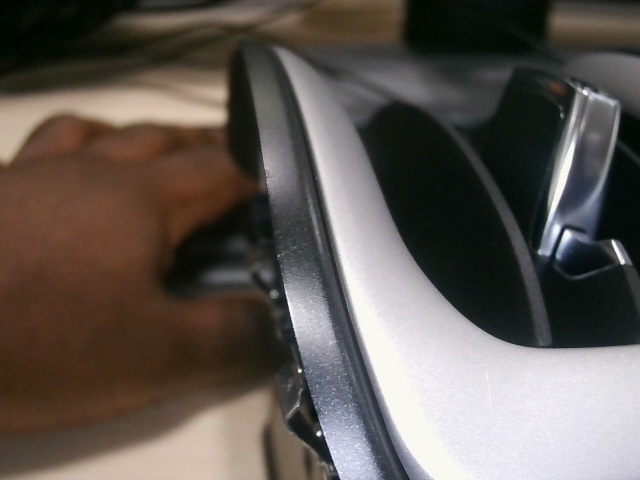NG: (268, 214, 306, 278), (477, 358, 510, 417)
